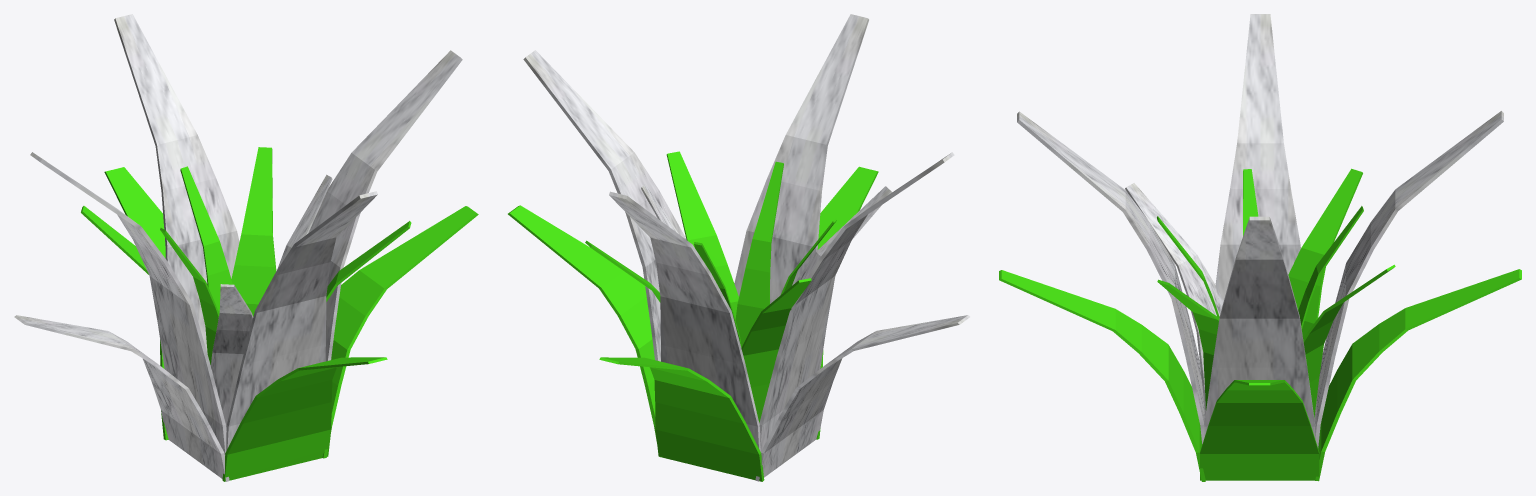
Rendered from Fern_modified.gltf.
3 views of the same model, side by side, from view 1: azimuth 30°, elevation 25°; view 2: azimuth 150°, elevation 25°; view 3: azimuth 270°, elevation 25° (orthographic).
Visible parts, largest first — view 1: Fern_modified; view 2: Fern_modified; view 3: Fern_modified.
Boxes of the visible parts, x1=… form: Fern_modified: x1=14, y1=14, x2=478, y2=481; Fern_modified: x1=508, y1=14, x2=969, y2=481; Fern_modified: x1=999, y1=14, x2=1521, y2=481.
Bounding box in the file's own units: 81.73 × 59.1 × 82.11.
2 materials, 1 textured.
